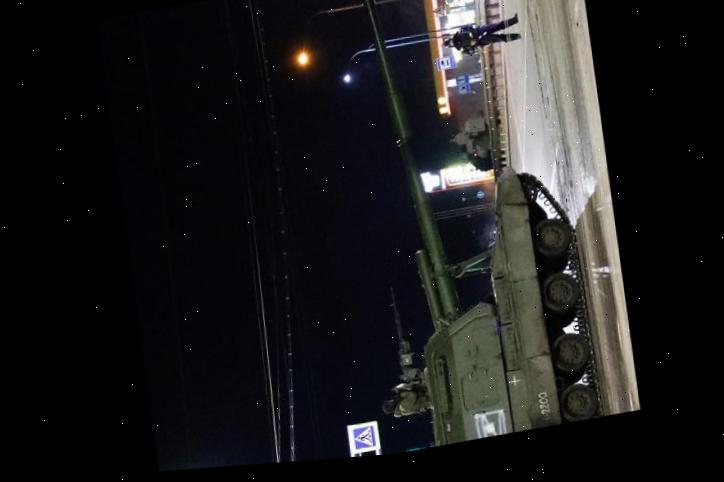person: (441, 14, 529, 55), (378, 376, 439, 428)
sau: (349, 0, 621, 453)
tank: (447, 107, 511, 180)
